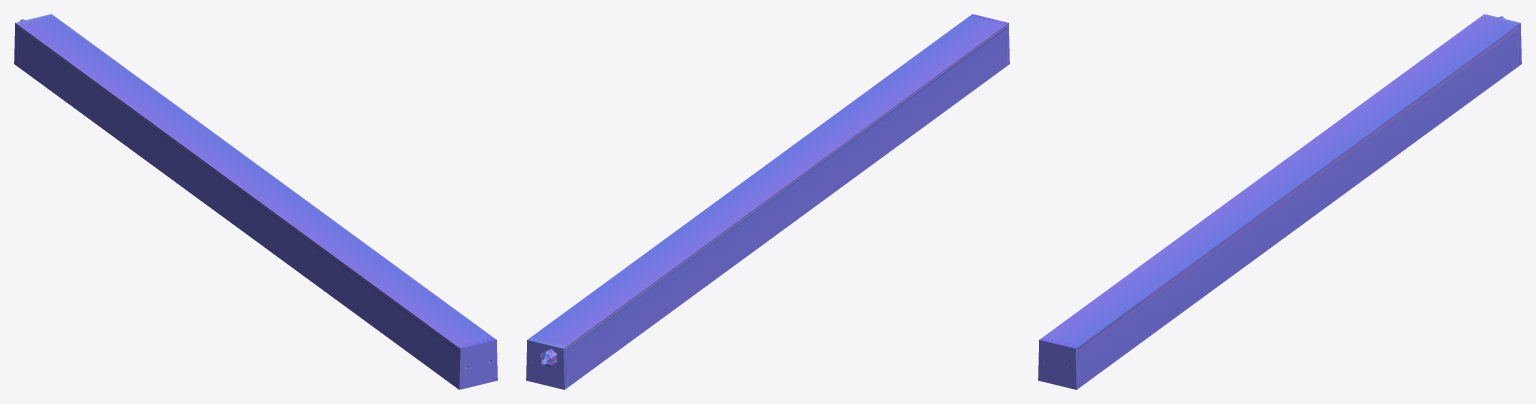
Rendered from prop_lamp_LOD.fbx.
3 views of the same model, side by side, from view 1: azimuth 30°, elevation 25°; view 2: azimuth 150°, elevation 25°; view 3: azimuth 330°, elevation 25° (orthographic).
Visible parts, largest first — view 1: LOWPOLY_LAMP_LOD; view 2: LOWPOLY_LAMP_LOD; view 3: LOWPOLY_LAMP_LOD.
Boxes of the visible parts, x1,y1,x2,y2 form: LOWPOLY_LAMP_LOD: (14,14,497,389); LOWPOLY_LAMP_LOD: (526,14,1009,389); LOWPOLY_LAMP_LOD: (1038,14,1521,389).
Size of the model in its own units: 200 by 203 by 4067.
Materials: 1 (1 with a texture image).
